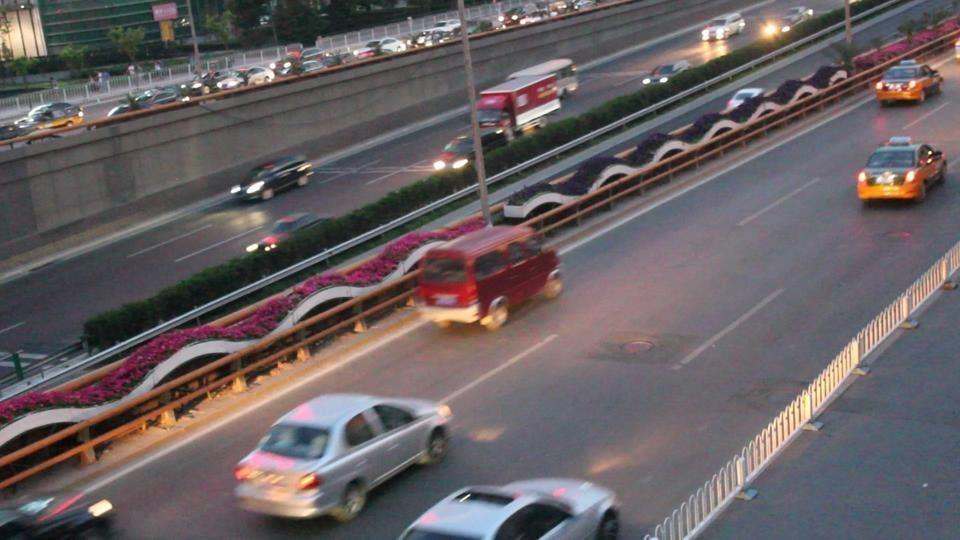car: (233, 391, 453, 524), (502, 133, 685, 225), (417, 225, 565, 331), (397, 476, 623, 539), (856, 138, 948, 206), (1, 492, 117, 540), (235, 151, 314, 203), (246, 212, 330, 256), (873, 61, 945, 106), (432, 132, 510, 172), (753, 3, 814, 44), (722, 85, 781, 123), (23, 102, 84, 129), (641, 60, 692, 88), (700, 13, 746, 43), (128, 86, 189, 108), (212, 72, 247, 91), (242, 66, 275, 86), (128, 88, 158, 107)
